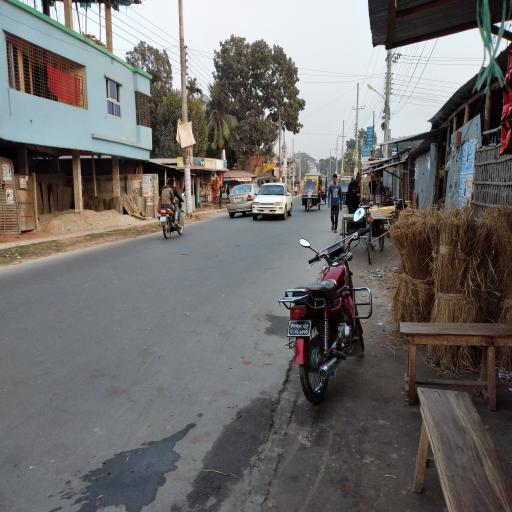auto rickshaw: (302, 173, 328, 214), (341, 176, 355, 207), (258, 176, 279, 184), (296, 184, 301, 196)
car: (253, 181, 295, 222), (227, 185, 252, 219)
motorbike: (278, 227, 375, 407), (160, 181, 186, 241)
